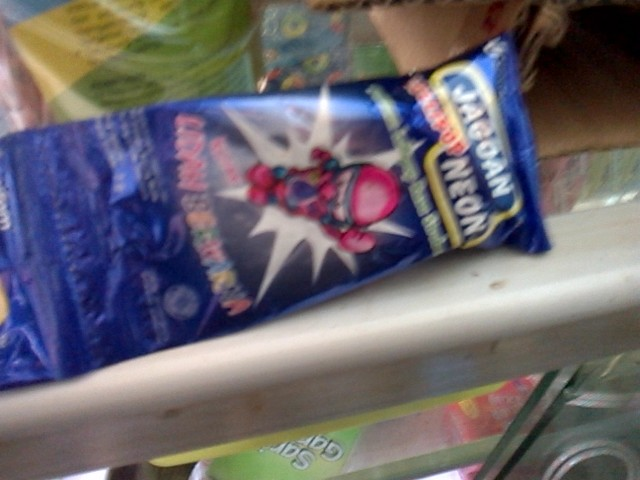jagoan neon: (39, 31, 551, 369)
